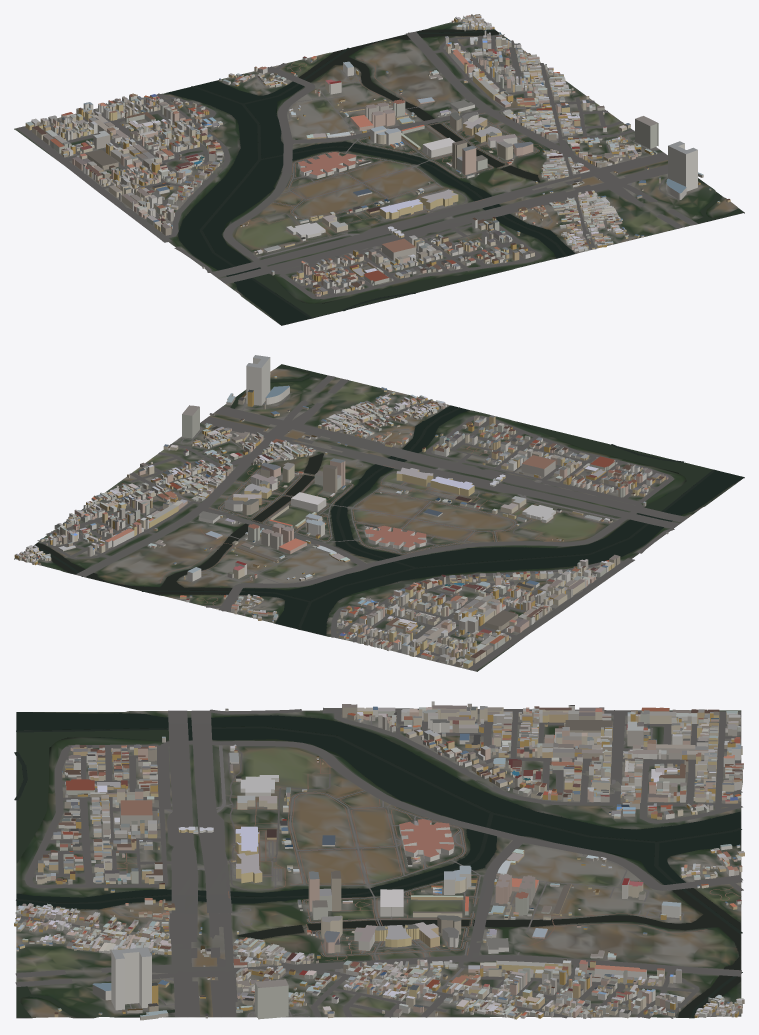
The picture shows the model from 3 angles, top to bottom: view 1: azimuth 30°, elevation 25°; view 2: azimuth 150°, elevation 25°; view 3: azimuth 270°, elevation 25°; orthographic projection. The views are drawn at different scales.
Parts seen in each view (by area): view 1: ground, buildings, roads, water; view 2: ground, buildings, roads, water; view 3: ground, buildings, roads, water.
Boxes of the visible parts, x1,y1,x2,y2 form: ground: (14,19,744,325); buildings: (25,14,730,296); roads: (17,25,701,299); water: (166,29,743,325); ground: (14,366,744,671); buildings: (14,355,668,668); roads: (25,375,688,671); water: (34,364,743,635); ground: (16,710,741,1018); buildings: (14,701,744,1020); roads: (15,707,743,1018); water: (14,712,742,1017).
Bounding box in the file's own units: 1426 × 115 × 1412.
